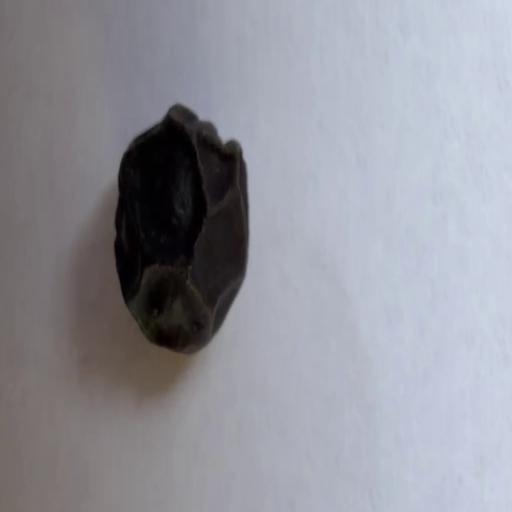Black_pepper: (87, 81, 279, 373)
